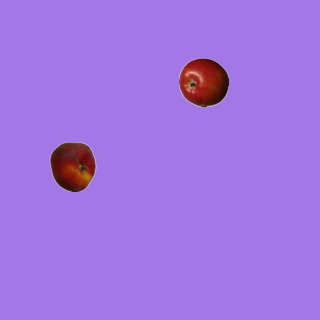Apple Braeburn: (178, 57, 228, 107)
Nectarine Flat: (47, 141, 97, 191)
